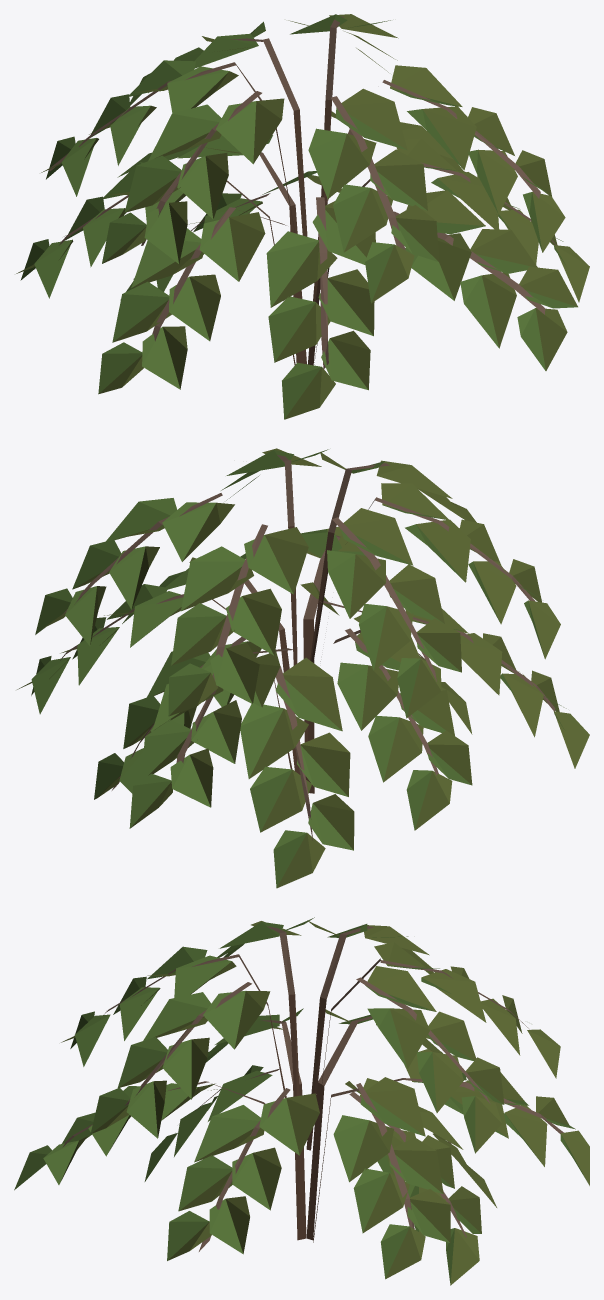
3 renders of one model, top to bottom at view 1: azimuth 30°, elevation 25°; view 2: azimuth 150°, elevation 25°; view 3: azimuth 270°, elevation 25°, orthographic. The views are drawn at different scales.
Size of the model in its own units: 226 by 143 by 256.
Materials: 1 (1 with a texture image).
